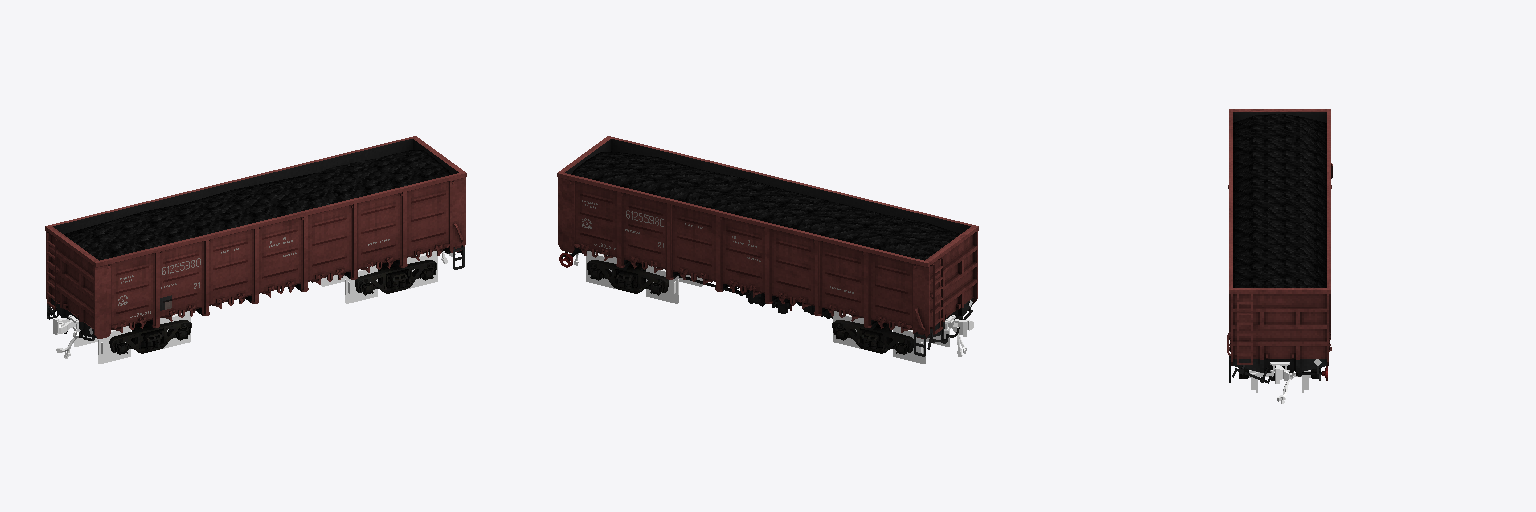
3 renders of one model, left to right at view 1: azimuth 30°, elevation 25°; view 2: azimuth 150°, elevation 25°; view 3: azimuth 270°, elevation 25°, orthographic.
Parts seen in each view (by area): view 1: FRAME_mvp_gondolacar, CARGO_FILL_100, BOGEY_FRONT_mvp_poluwagon, BOGEY_REAR_mvp_poluwagon, BOGEY_FRONT_WHEEL_1, BOGEY_REAR_WHEEL_1; view 2: FRAME_mvp_gondolacar, CARGO_FILL_100, BOGEY_FRONT_mvp_poluwagon, BOGEY_REAR_mvp_poluwagon, BOGEY_REAR_WHEEL_1, BOGEY_FRONT_WHEEL_1; view 3: CARGO_FILL_100, FRAME_mvp_gondolacar.
Part boxes in pixels (left/top/right/bottom): FRAME_mvp_gondolacar: left=45, top=136, right=466, bottom=340; CARGO_FILL_100: left=64, top=150, right=450, bottom=260; BOGEY_FRONT_mvp_poluwagon: left=109, top=320, right=191, bottom=354; BOGEY_REAR_mvp_poluwagon: left=355, top=260, right=436, bottom=295; BOGEY_FRONT_WHEEL_1: left=74, top=326, right=130, bottom=363; BOGEY_REAR_WHEEL_1: left=321, top=265, right=377, bottom=303; FRAME_mvp_gondolacar: left=557, top=136, right=978, bottom=356; CARGO_FILL_100: left=571, top=151, right=959, bottom=260; BOGEY_FRONT_mvp_poluwagon: left=832, top=320, right=913, bottom=354; BOGEY_REAR_mvp_poluwagon: left=587, top=260, right=668, bottom=295; BOGEY_REAR_WHEEL_1: left=646, top=265, right=702, bottom=303; BOGEY_FRONT_WHEEL_1: left=893, top=326, right=949, bottom=363; CARGO_FILL_100: left=1233, top=114, right=1326, bottom=287; FRAME_mvp_gondolacar: left=1227, top=109, right=1332, bottom=383.
Size of the model in its own units: 14.25 by 3.94 by 3.25.
Materials: 6 (4 with a texture image).